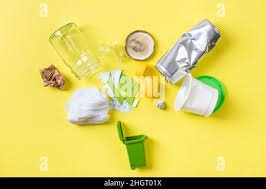glass: (47, 19, 107, 81)
metal: (156, 15, 220, 82)
paper: (62, 69, 135, 134), (156, 99, 168, 113)
plastic: (116, 120, 158, 174), (175, 76, 221, 118), (119, 29, 158, 65)
